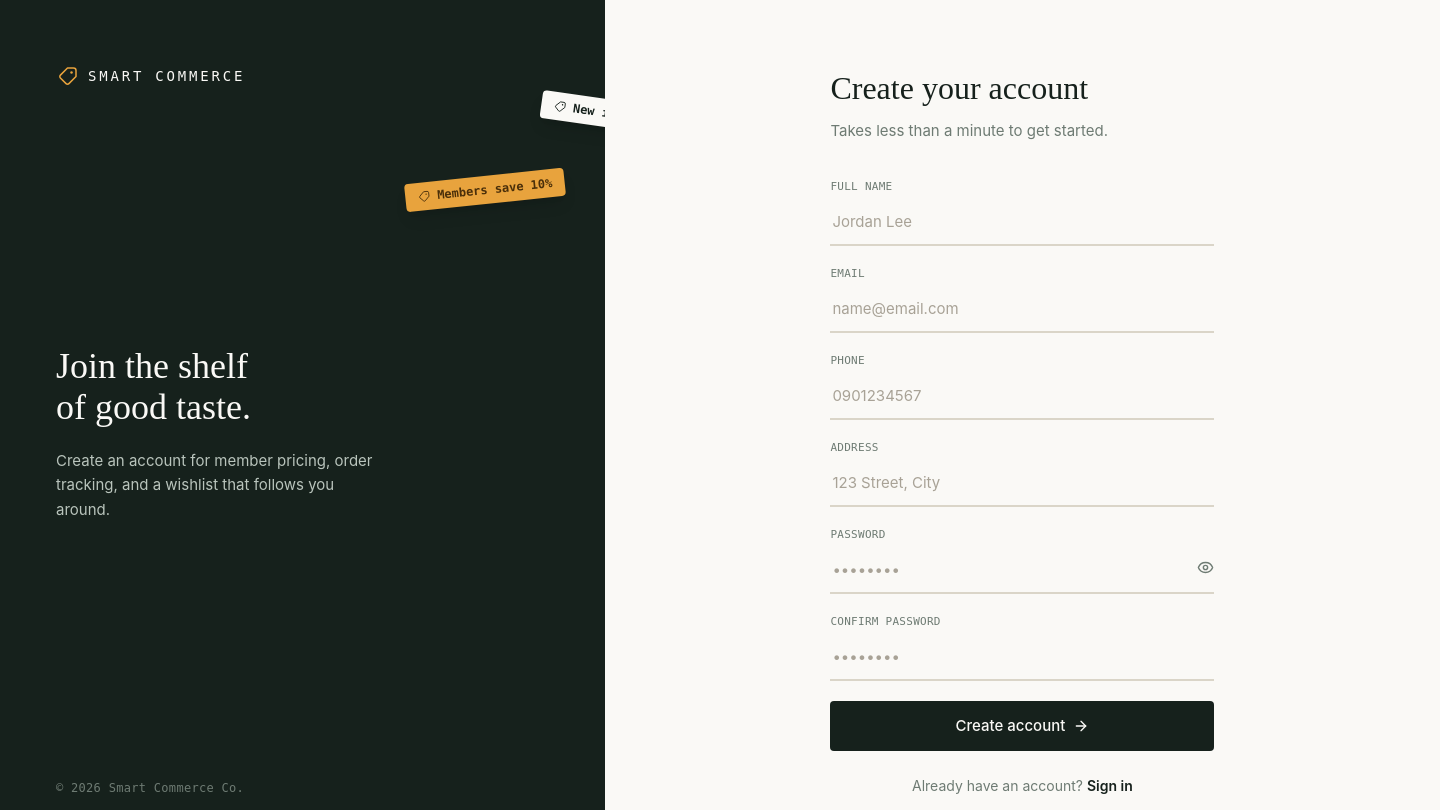
Test case: Auth Forms › RegisterForm › renders register fields and validates password match
This screenshot has width=1440, height=810.
Expected: the field with placeholder "Jordan Lee" is shown, [830,201,1214,246]
Expected: the field with placeholder "name@email.com" is shown, [830,288,1214,332]
Click the button "Create account". click: [1022, 726]
box: [830,700,1214,751]
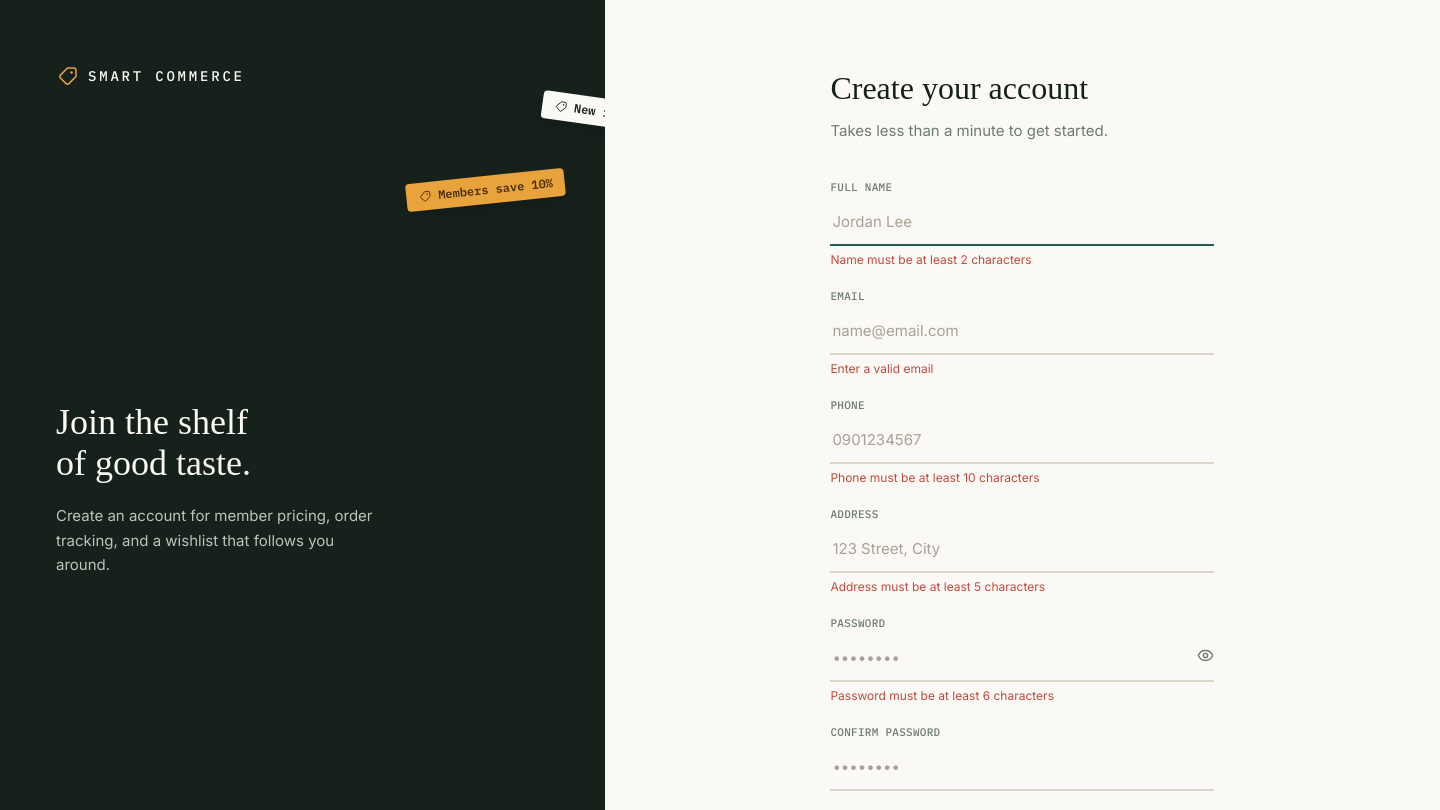
Expected: the text "Name must be at least 2 characters" is shown, [830,252,1032,266]
